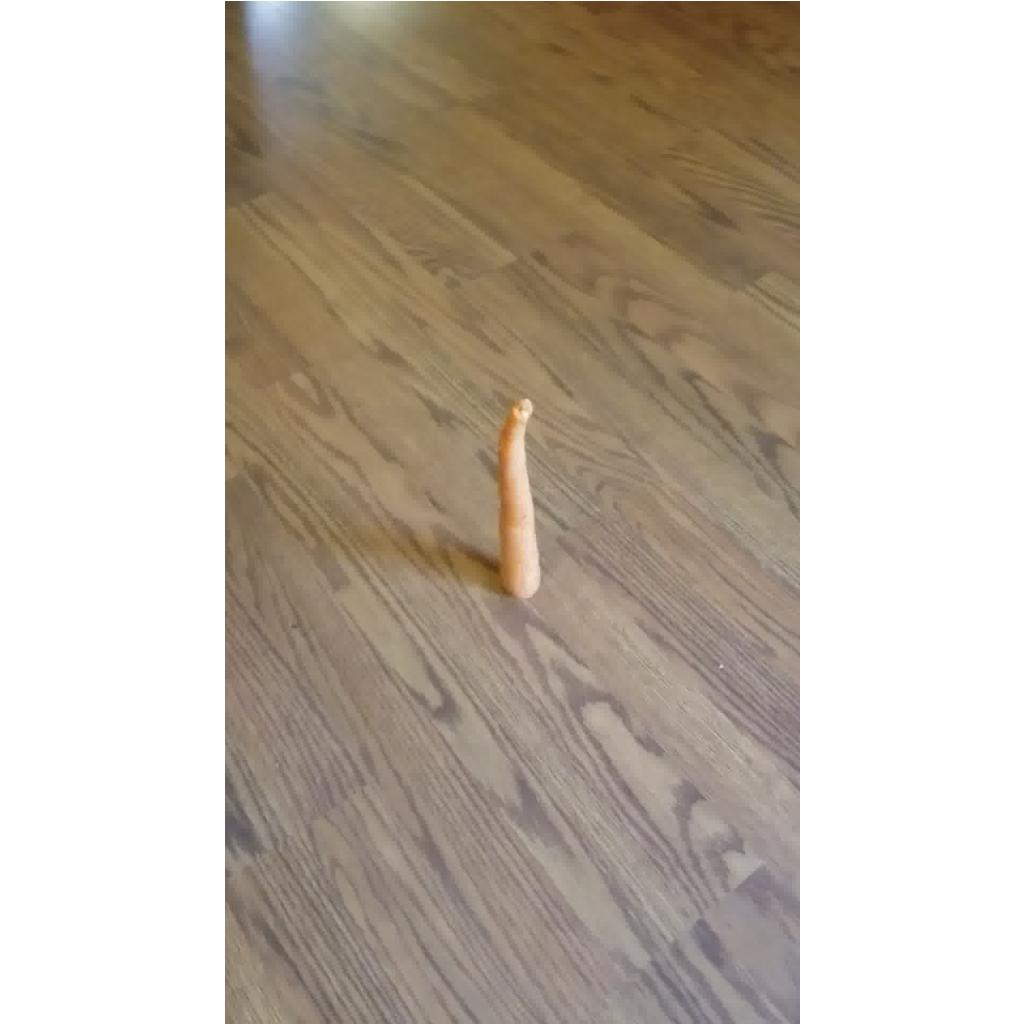carrot: (498, 398, 540, 598)
